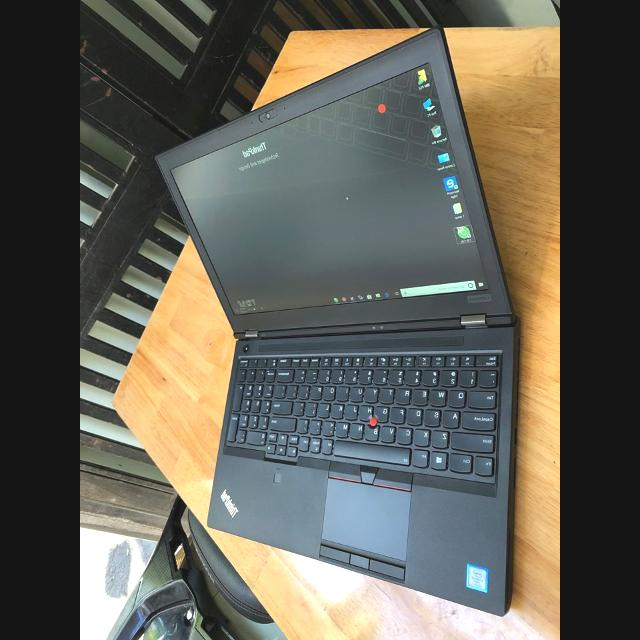laptop: (159, 29, 519, 614)
